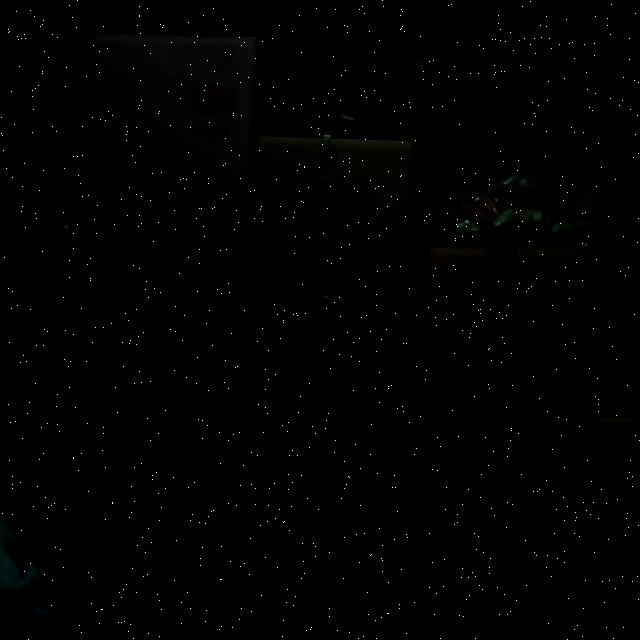box: (62, 16, 266, 304), (400, 409, 601, 640), (407, 233, 611, 428), (50, 446, 252, 632), (58, 286, 260, 469), (230, 458, 430, 640), (234, 128, 426, 314), (240, 293, 435, 476)
